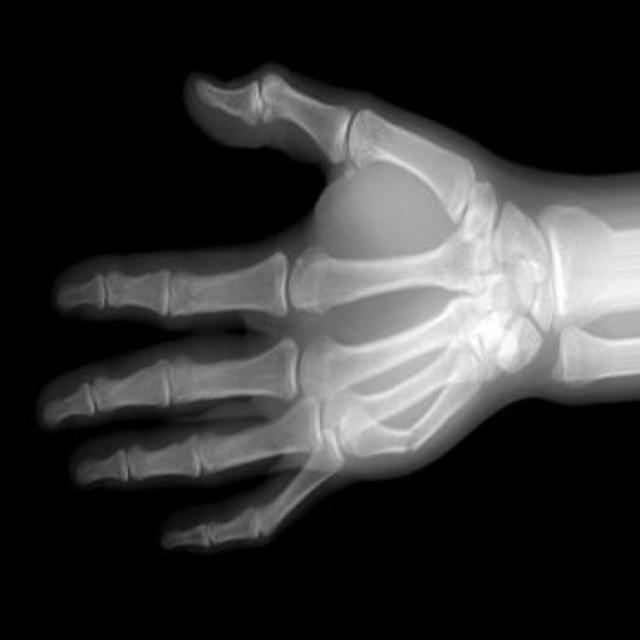fracture: (402, 421, 426, 469)
